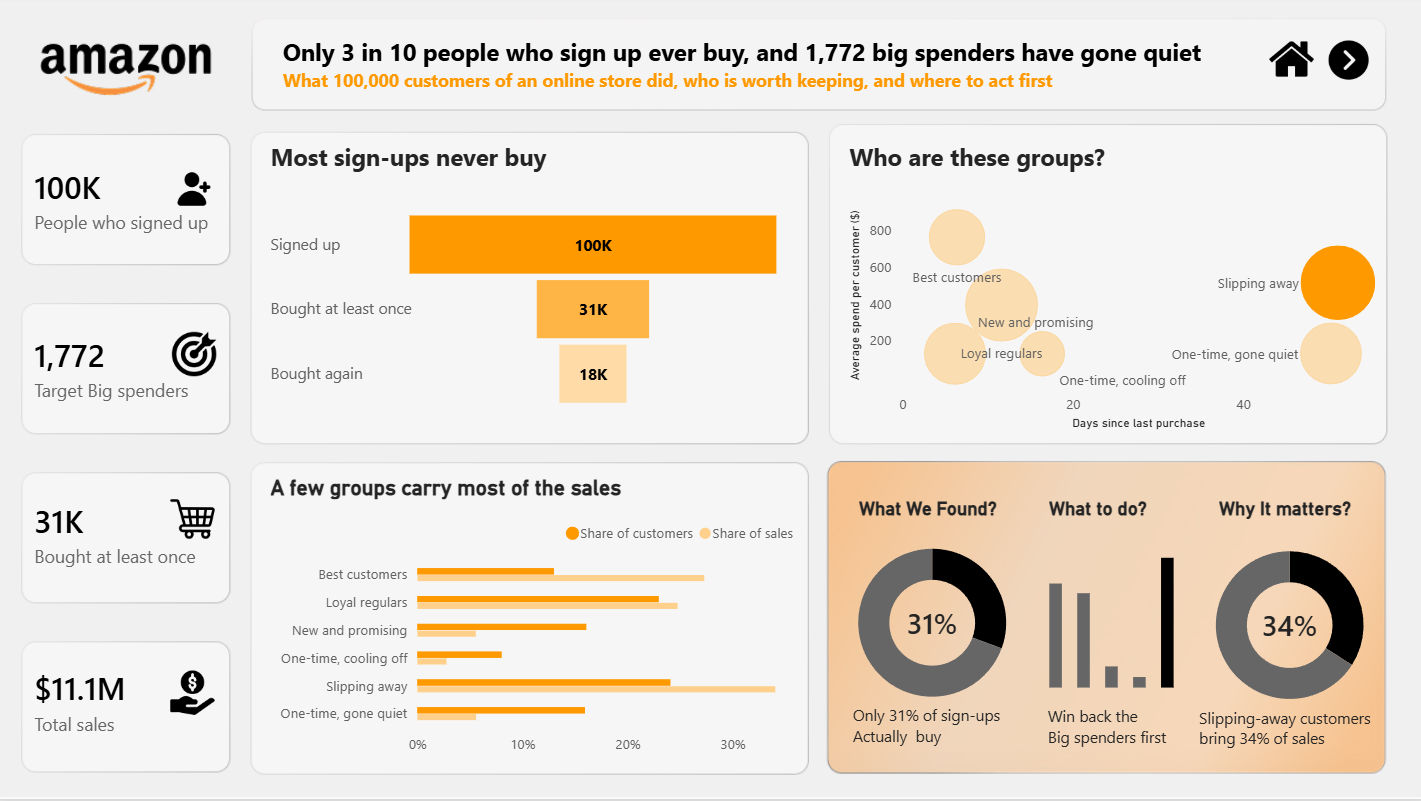

This screenshot's page, from the dashboard's own definition file:
{"tool":"powerbi","page":{"name":" The big picture","canvas":[1920,1080],"ordinal":0},"visuals":[{"type":"textbox","box":[184,26,1467.5,280],"z":0},{"type":"cardVisual","fields":{"Data":["rfm_powerbi.Total Users"]},"box":[172,166,262,162],"z":1000},{"type":"cardVisual","fields":{"Data":["rfm_powerbi.Buyers"]},"box":[185,380,282,160],"z":2000},{"type":"cardVisual","fields":{"Data":["rfm_powerbi.Buyer Revenue"]},"box":[177.5,817.5,282,170],"z":3000},{"type":"cardVisual","fields":{"Data":["rfm_powerbi.HV At-Risk Customers"]},"box":[172.5,622.5,295,150],"z":4000},{"type":"clusteredBarChart","title":"A few groups carry most of the sales","fields":{"Category":["rfm_powerbi.Segment Plain"],"Y":["rfm_powerbi.Revenue % of Buyers","rfm_powerbi.Cust % of Buyers"]},"box":[440,576.7,670,446.7],"z":6000},{"type":"funnel","title":"Most sign-ups never buy","fields":{"Category":["Funnel.Stage"],"Y":["Funnel.Funnel Value"]},"box":[440,166.7,670,373.3],"z":6500},{"type":"scatterChart","title":"Who are these groups?","fields":{"Category":["rfm_powerbi.Segment Plain"],"X":["rfm_powerbi.Avg Days Since Purchase"],"Y":["rfm_powerbi.Avg Spend per Buyer"],"Size":["rfm_powerbi.Buyers"]},"box":[1143.3,166.7,680,373.3],"z":8000},{"type":"shape","box":[1120,575,725,445],"z":9001},{"type":"textbox","box":[1120,603.3,725,430],"z":9501},{"type":"shape","box":[0,0,150,1080],"z":9503}]}

Visuals, with their boxes in screenshot pixels (x1, y1, x2, y2), scaled from the page's 1920x1080 canvas onto the 1421x801 screenshot:
textbox: 136, 19, 1222, 227
cardVisual - rfm_powerbi.Total Users: 127, 123, 321, 243
cardVisual - rfm_powerbi.Buyers: 137, 282, 346, 400
cardVisual - rfm_powerbi.Buyer Revenue: 131, 606, 340, 732
cardVisual - rfm_powerbi.HV At-Risk Customers: 128, 462, 346, 573
"A few groups carry most of the sales" clusteredBarChart: 326, 428, 822, 759
"Most sign-ups never buy" funnel: 326, 124, 822, 400
"Who are these groups?" scatterChart: 846, 124, 1349, 400
shape: 829, 426, 1365, 756
textbox: 829, 447, 1365, 766
shape: 0, 0, 111, 800
